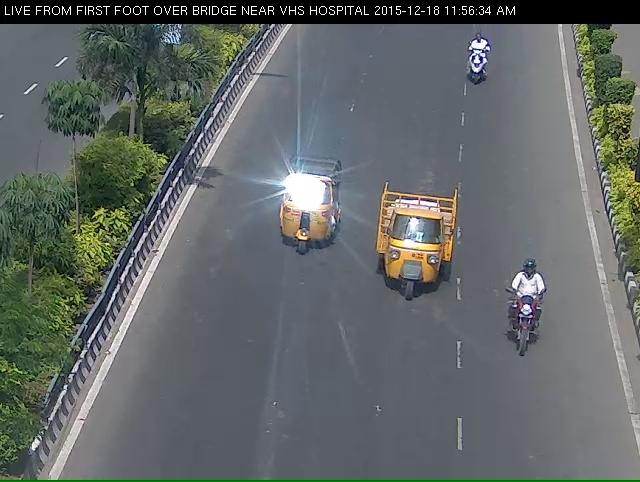Car: (368, 200, 455, 322), (266, 172, 335, 274)
Person: (511, 276, 554, 381), (460, 33, 495, 100)
